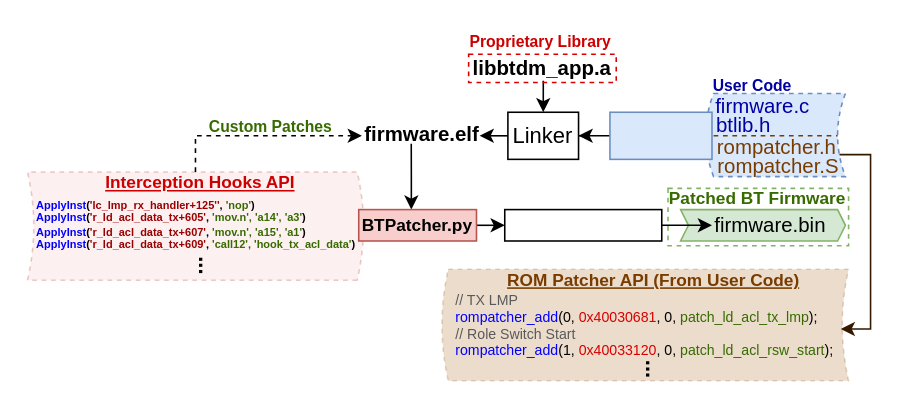
Image size: 911x413. Some labels were removed from this diagram. Here are the shapes that lost their labels. From the top down, the box of each, then its label:
(608, 111, 712, 159): Compiler
(503, 208, 662, 241): xtensa-objcopy
